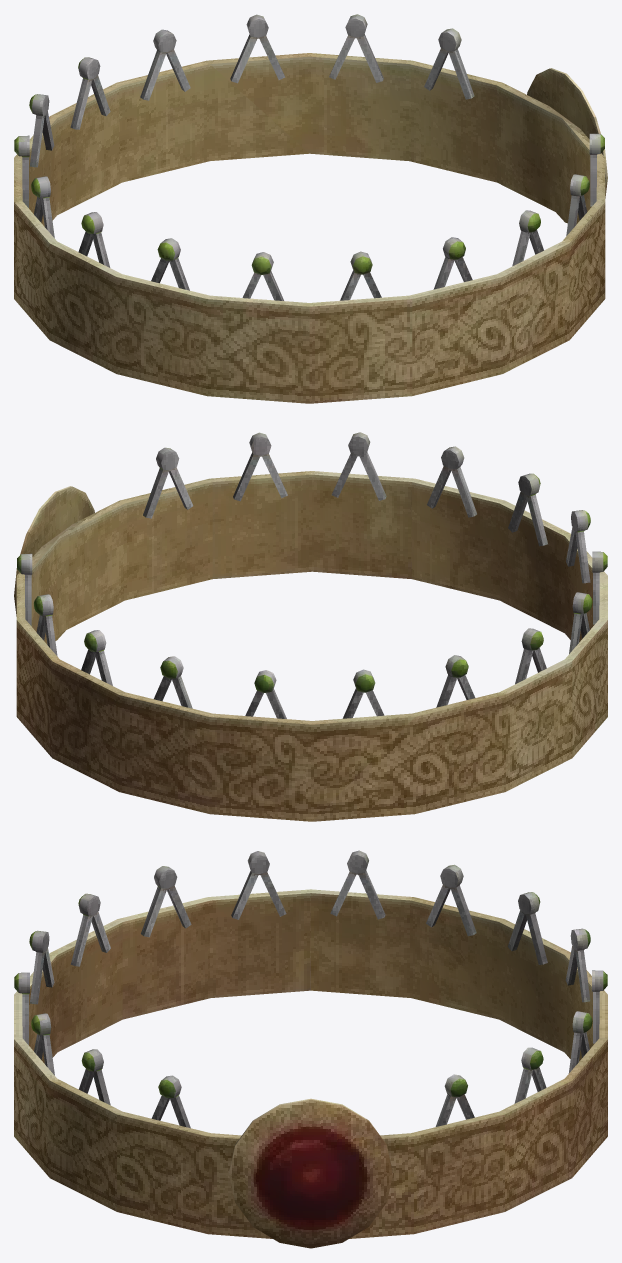
File: crown.glb
3 renders of one model, top to bottom at view 1: azimuth 30°, elevation 25°; view 2: azimuth 150°, elevation 25°; view 3: azimuth 270°, elevation 25°, orthographic.
Parts seen in each view (by area): view 1: crown_mesh; view 2: crown_mesh; view 3: crown_mesh.
Boxes of the visible parts, <box> form: crown_mesh: <box>14,14,607,403</box>; crown_mesh: <box>14,432,607,821</box>; crown_mesh: <box>14,850,607,1248</box>.
Size of the model in its own units: 25.06 by 6.72 by 24.08.
Materials: 1 (1 with a texture image).
